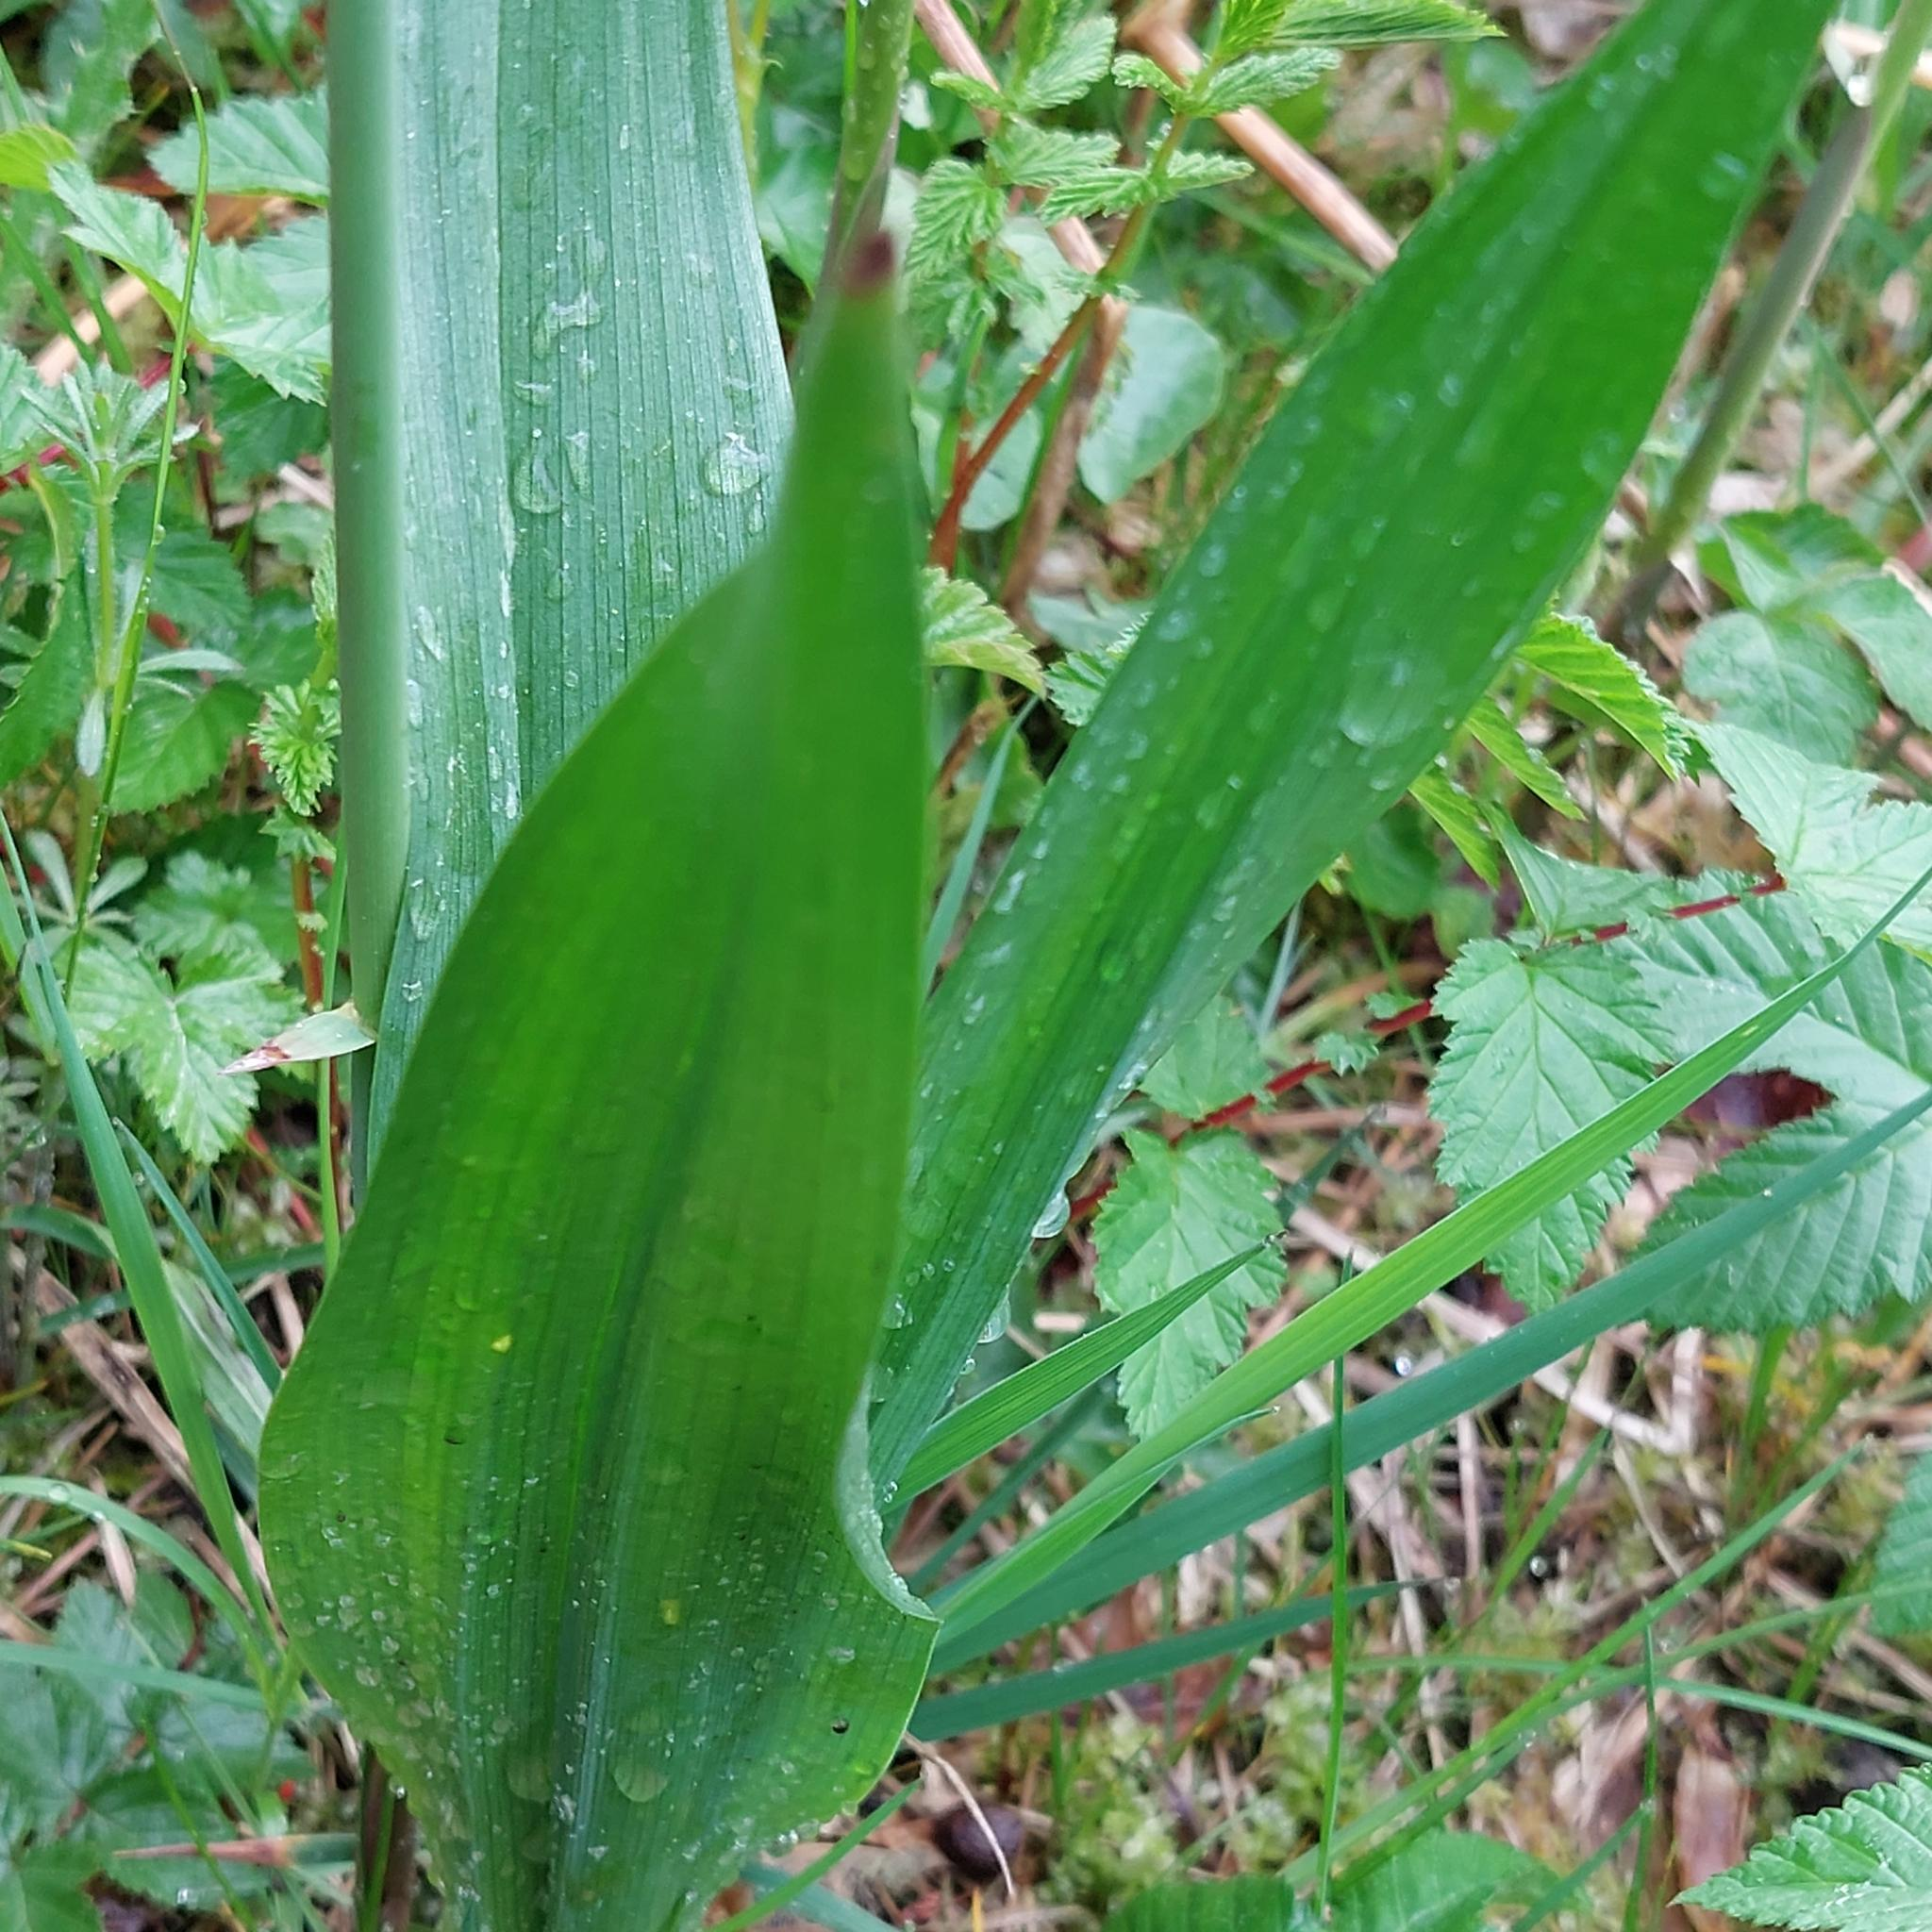Colchicum autumnale L: (177, 23, 1304, 1932)
